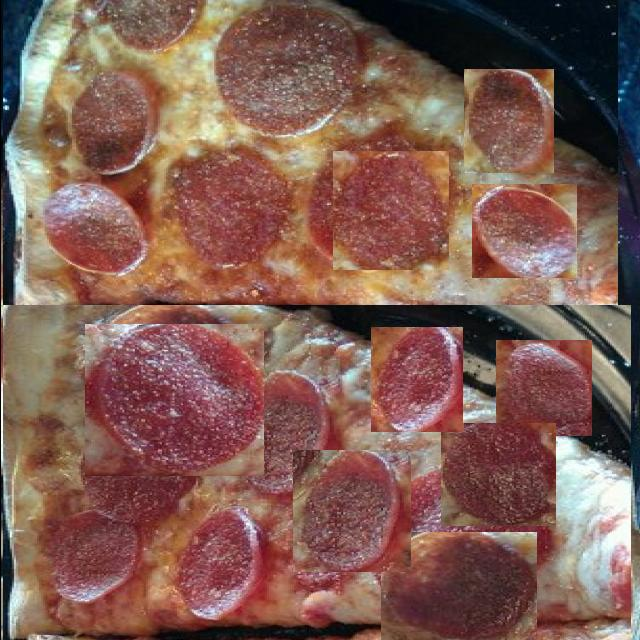pepperoni: (84, 324, 263, 476), (258, 0, 404, 136), (165, 142, 308, 267), (380, 532, 536, 640), (292, 450, 409, 572), (332, 151, 448, 270), (438, 423, 554, 528), (471, 184, 576, 278), (370, 327, 462, 432), (463, 69, 553, 173), (495, 340, 591, 436), (410, 0, 535, 52)
pizza: (2, 305, 630, 640), (2, 0, 617, 325)
